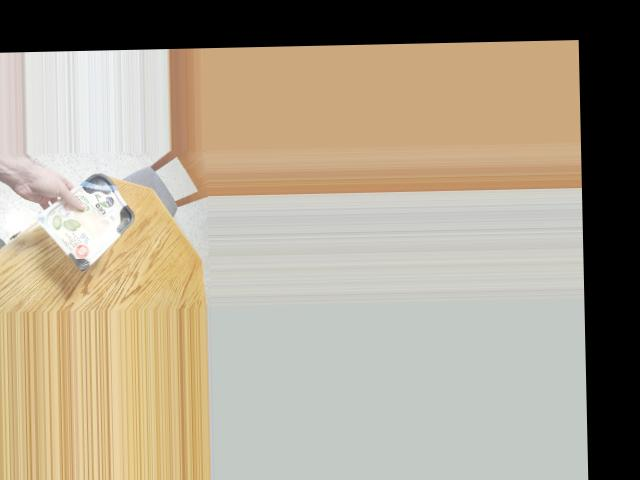cheese: (52, 179, 136, 260)
